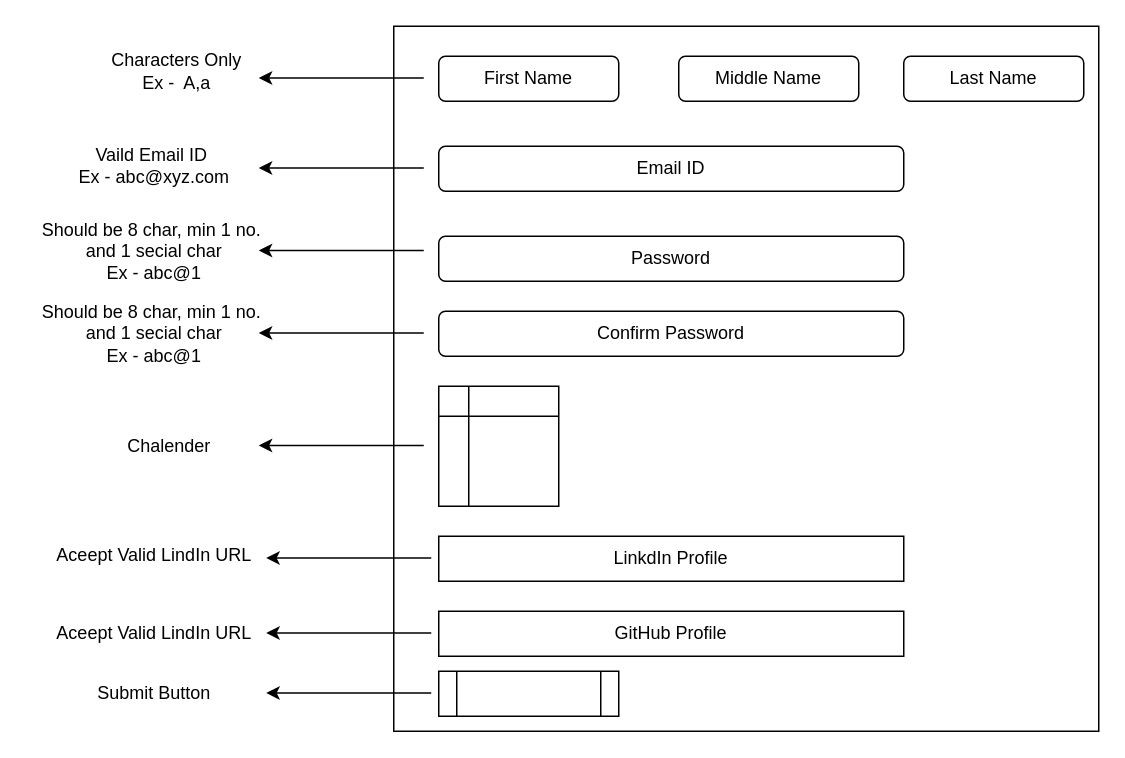
This 1125x758 diagram has some shape labels left out. Here are the shapes that lost their labels. From the top down, the centre of each, then its label:
At (x=498, y=445): "DOB".
At (x=528, y=693): "Submit".
